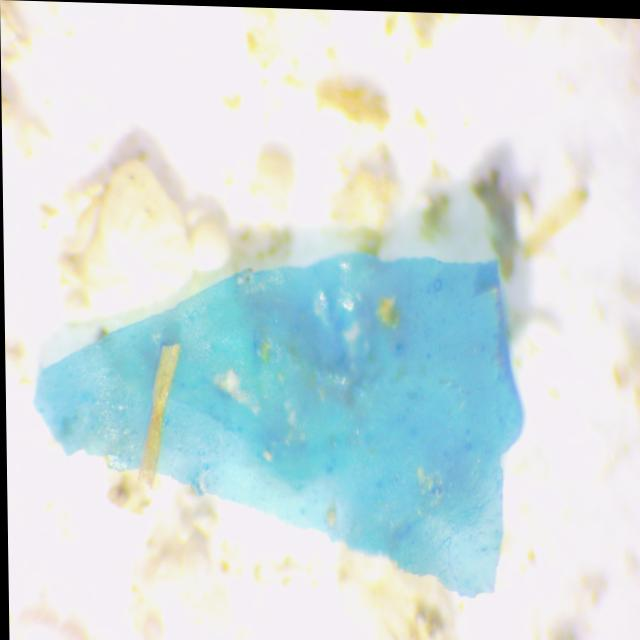microplastic: (33, 254, 524, 596)
